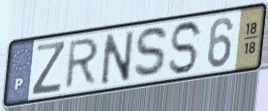6: (205, 15, 236, 70)
N: (100, 28, 136, 89)
R: (62, 36, 101, 93)
S: (131, 25, 172, 81), (167, 19, 205, 78)
Z: (29, 39, 68, 98)
